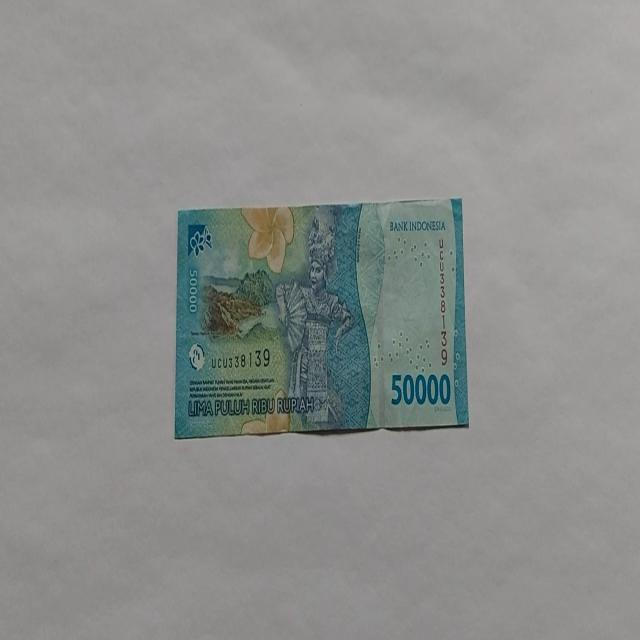lima puluh ribu rupiah: (173, 196, 470, 440)
